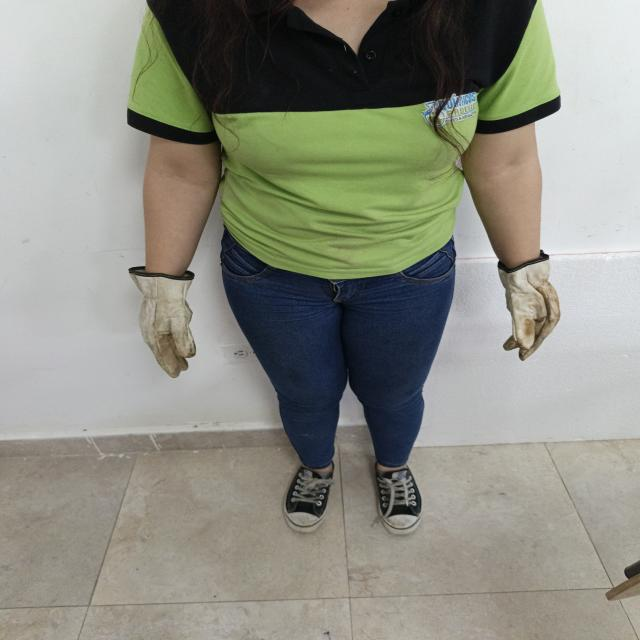gloves: (129, 266, 196, 378), (498, 250, 560, 361)
